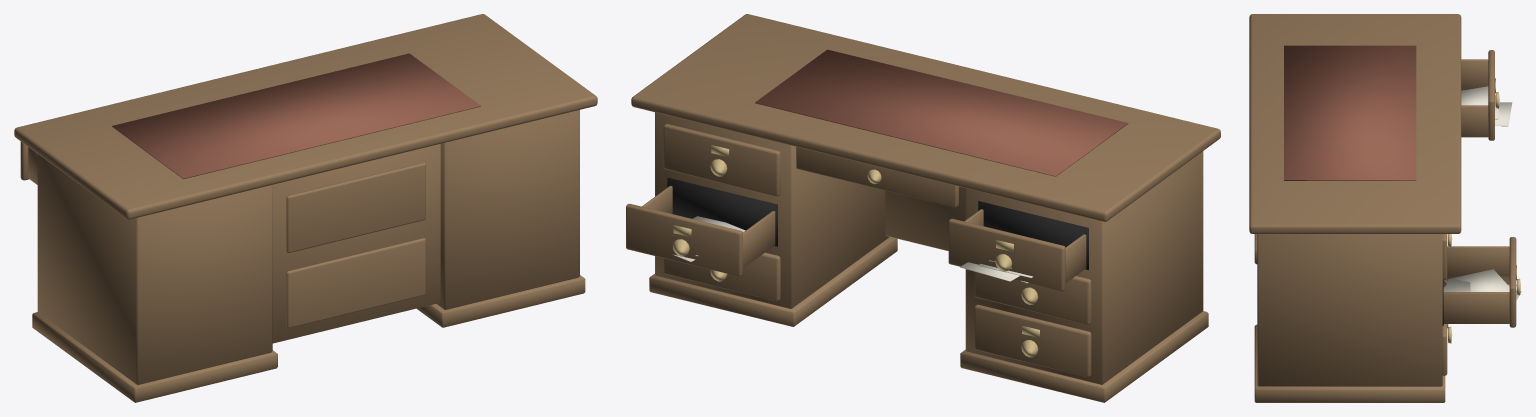
The model's file is ss_desk_open2.glb.
The picture shows the model from 3 angles, left to right: view 1: azimuth 30°, elevation 25°; view 2: azimuth 150°, elevation 25°; view 3: azimuth 270°, elevation 25°; orthographic projection. The views are drawn at different scales.
Parts seen in each view (by area): view 1: ss_desk_open2; view 2: ss_desk_open2; view 3: ss_desk_open2.
Boxes of the visible parts, x1=… form: ss_desk_open2: x1=14, y1=14, x2=597, y2=402; ss_desk_open2: x1=626, y1=14, x2=1220, y2=402; ss_desk_open2: x1=1249, y1=14, x2=1521, y2=402.
Size of the model in its own units: 1.9 by 0.7635 by 1.03.
